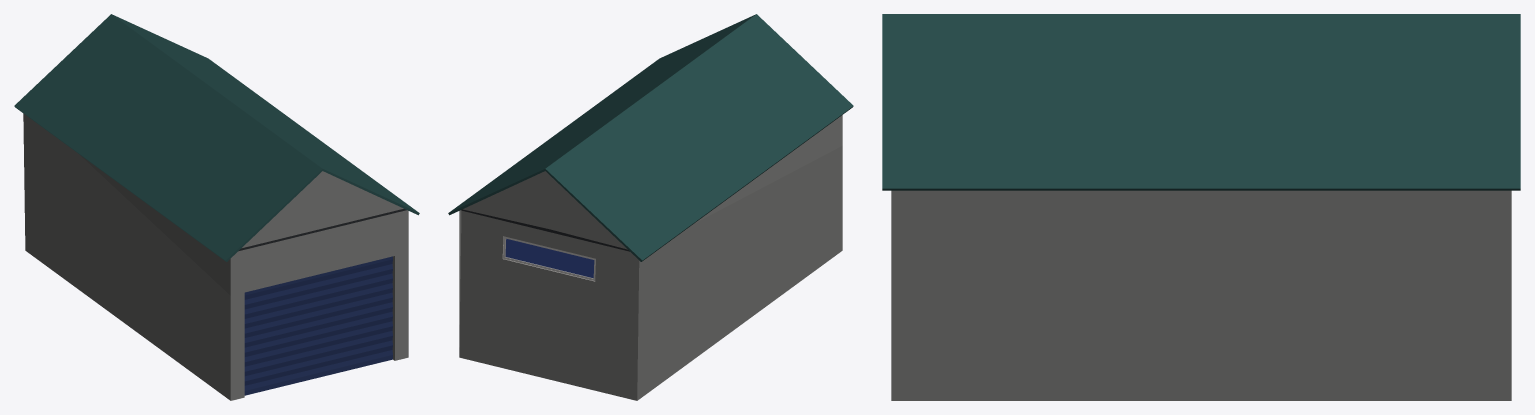
Rendered from Warehouse_2.fbx.
The picture shows the model from 3 angles, left to right: view 1: azimuth 30°, elevation 25°; view 2: azimuth 150°, elevation 25°; view 3: azimuth 270°, elevation 25°; orthographic projection. The views are drawn at different scales.
Parts seen in each view (by area): view 1: Warehouse_2; view 2: Warehouse_2; view 3: Warehouse_2.
Part boxes in pixels (left/top/right/bottom): Warehouse_2: left=14, top=14, right=419, bottom=400; Warehouse_2: left=448, top=14, right=853, bottom=400; Warehouse_2: left=882, top=14, right=1520, bottom=400.
Bounding box in the file's own units: 719 × 752 × 1354.
